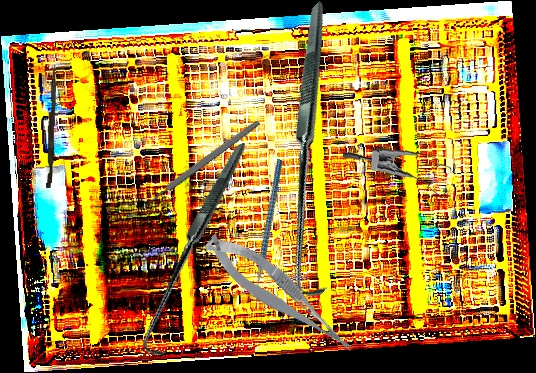Chopper: (211, 158, 330, 307)
Hook Surgical: (166, 0, 467, 303), (84, 141, 311, 361)
Micro Scissor: (199, 218, 360, 373)
Pusher: (46, 63, 57, 189)
Speculum: (342, 141, 459, 206)
Surgical Spoon: (124, 117, 263, 222)
